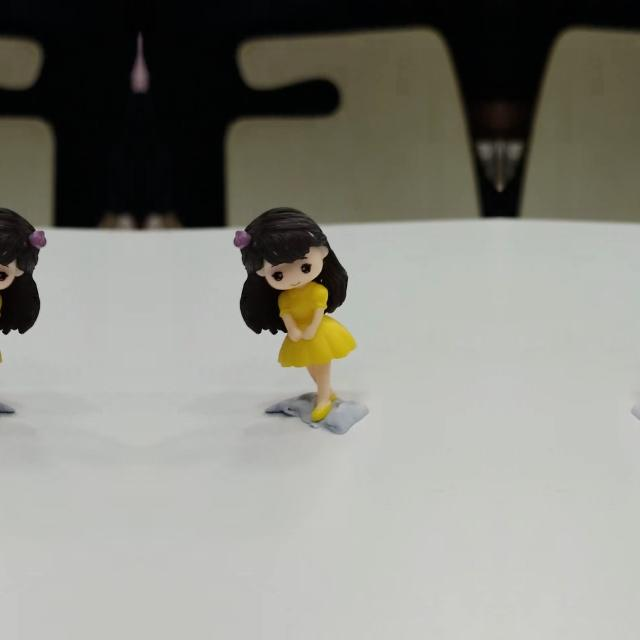woman head: (230, 196, 334, 290), (0, 196, 50, 289)
